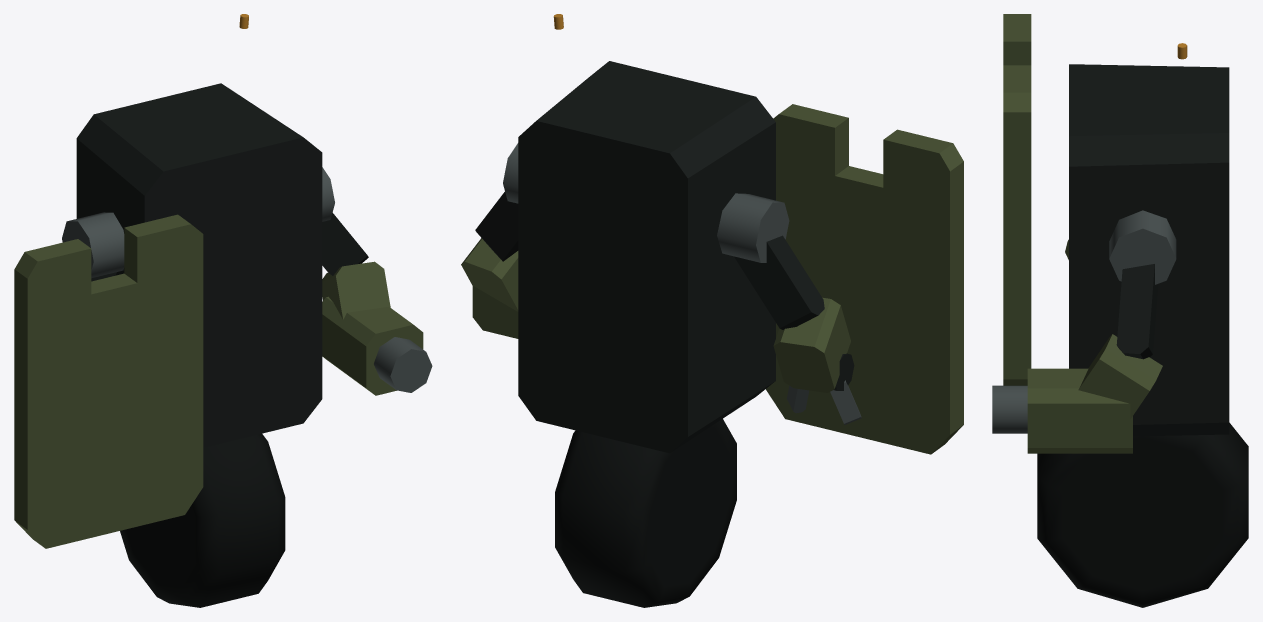
Rendered from SHIELD_KLONK.shadow.glb.
The picture shows the model from 3 angles, left to right: view 1: azimuth 30°, elevation 25°; view 2: azimuth 150°, elevation 25°; view 3: azimuth 270°, elevation 25°; orthographic projection. The views are drawn at different scales.
Visible parts, largest first — view 1: shield_geometry, body_geometry, wheel_geometry, armR_geometry, armL_geometry; view 2: body_geometry, shield_geometry, wheel_geometry, armL_geometry, armR_geometry; view 3: body_geometry, wheel_geometry, armR_geometry, shield_geometry.
Part boxes in pixels (x1,y1,x2,y2): shield_geometry: [14, 214, 203, 548]; body_geometry: [76, 14, 322, 447]; wheel_geometry: [120, 433, 285, 607]; armR_geometry: [322, 167, 432, 395]; armL_geometry: [62, 212, 124, 281]; body_geometry: [518, 14, 775, 453]; shield_geometry: [766, 104, 963, 454]; wheel_geometry: [555, 419, 736, 607]; armL_geometry: [717, 193, 861, 424]; armR_geometry: [461, 143, 518, 338]; body_geometry: [1069, 43, 1229, 436]; wheel_geometry: [1037, 422, 1248, 607]; armR_geometry: [992, 210, 1176, 453]; shield_geometry: [1003, 14, 1031, 385].
Bounding box in the file's own units: 1.01 × 1.3 × 0.5193.
1 material, 1 textured.
